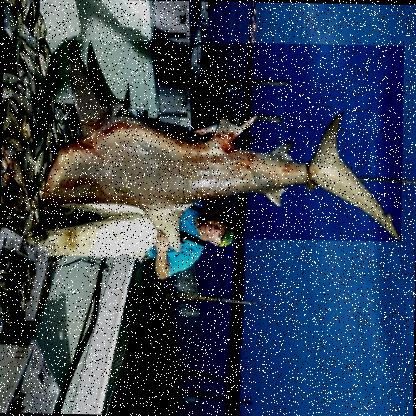bulldog-shark: (31, 37, 404, 240)
